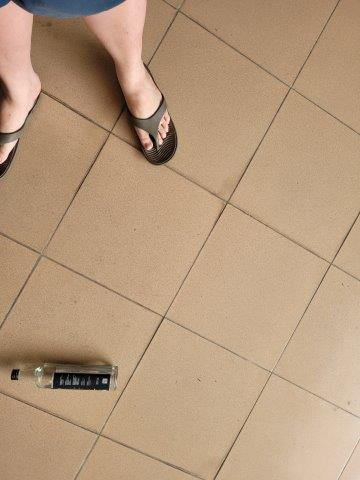botolkaca: (11, 362, 120, 393)
